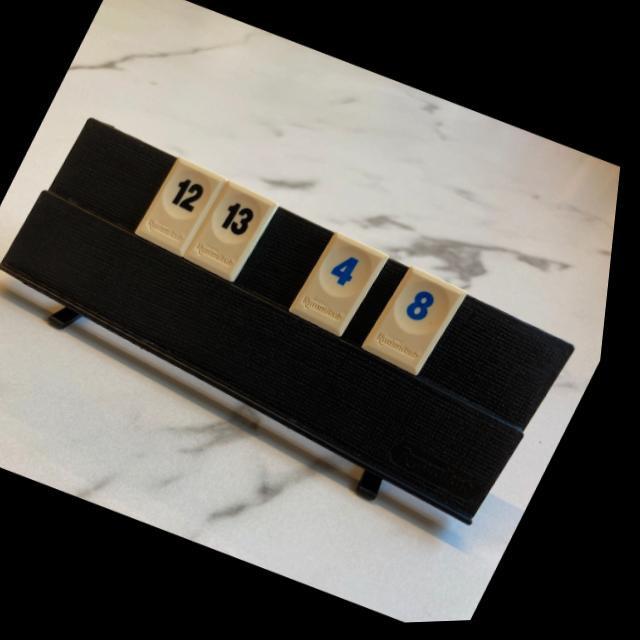black_12: (140, 159, 230, 258)
black_13: (189, 182, 283, 284)
blue_4: (296, 235, 394, 339)
blue_8: (370, 270, 473, 379)
